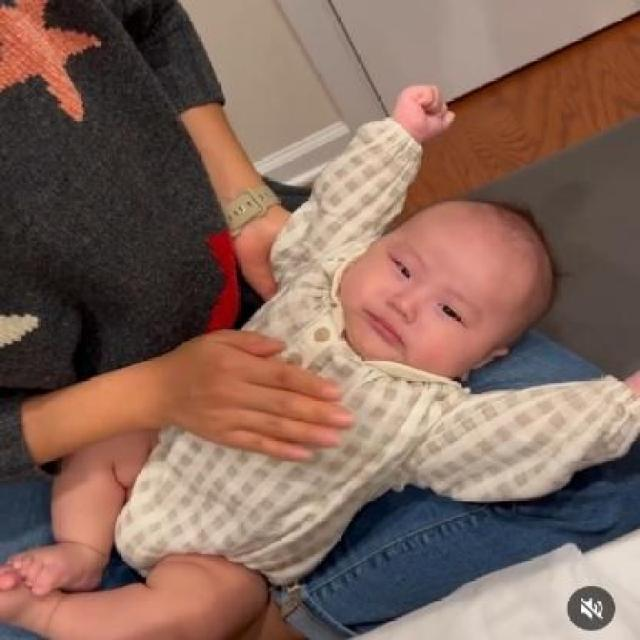baby: (8, 80, 638, 637)
